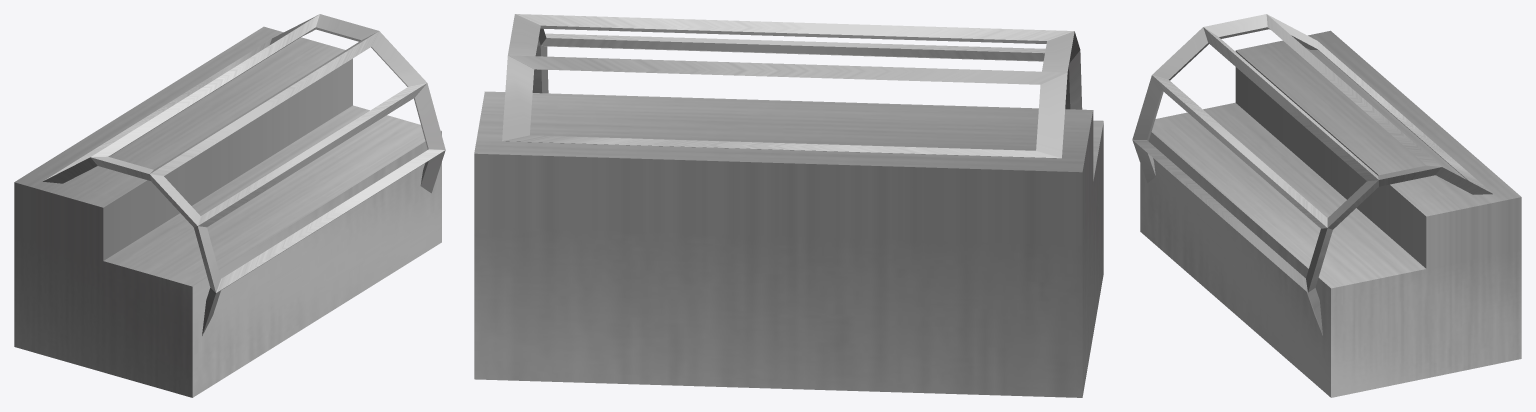
File: FundacionFortabat.gltf
3 renders of one model, left to right at view 1: azimuth 30°, elevation 25°; view 2: azimuth 150°, elevation 25°; view 3: azimuth 270°, elevation 25°, orthographic. The views are drawn at different scales.
Visible parts, largest first — view 1: FundacionFortabat; view 2: FundacionFortabat; view 3: FundacionFortabat.
Part boxes in pixels (bbox=[...]): FundacionFortabat: bbox=[14, 14, 445, 397]; FundacionFortabat: bbox=[474, 14, 1103, 397]; FundacionFortabat: bbox=[1132, 14, 1521, 397].
Bounding box in the file's own units: 1.28 × 0.5818 × 1.03.
1 material, 1 textured.
